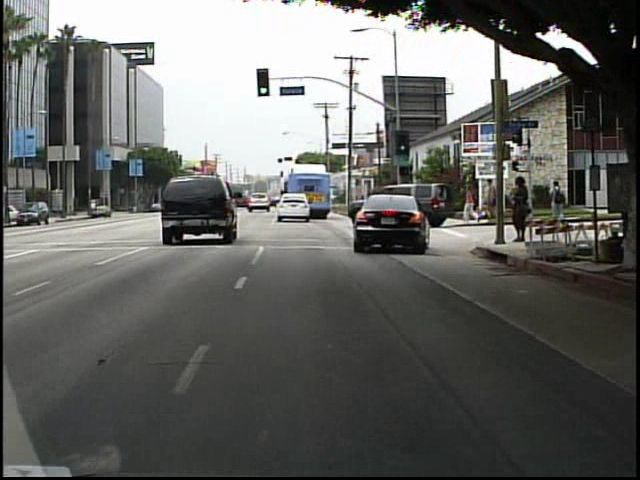person: (508, 172, 532, 250), (462, 180, 484, 228), (549, 179, 570, 221), (483, 178, 499, 223)
